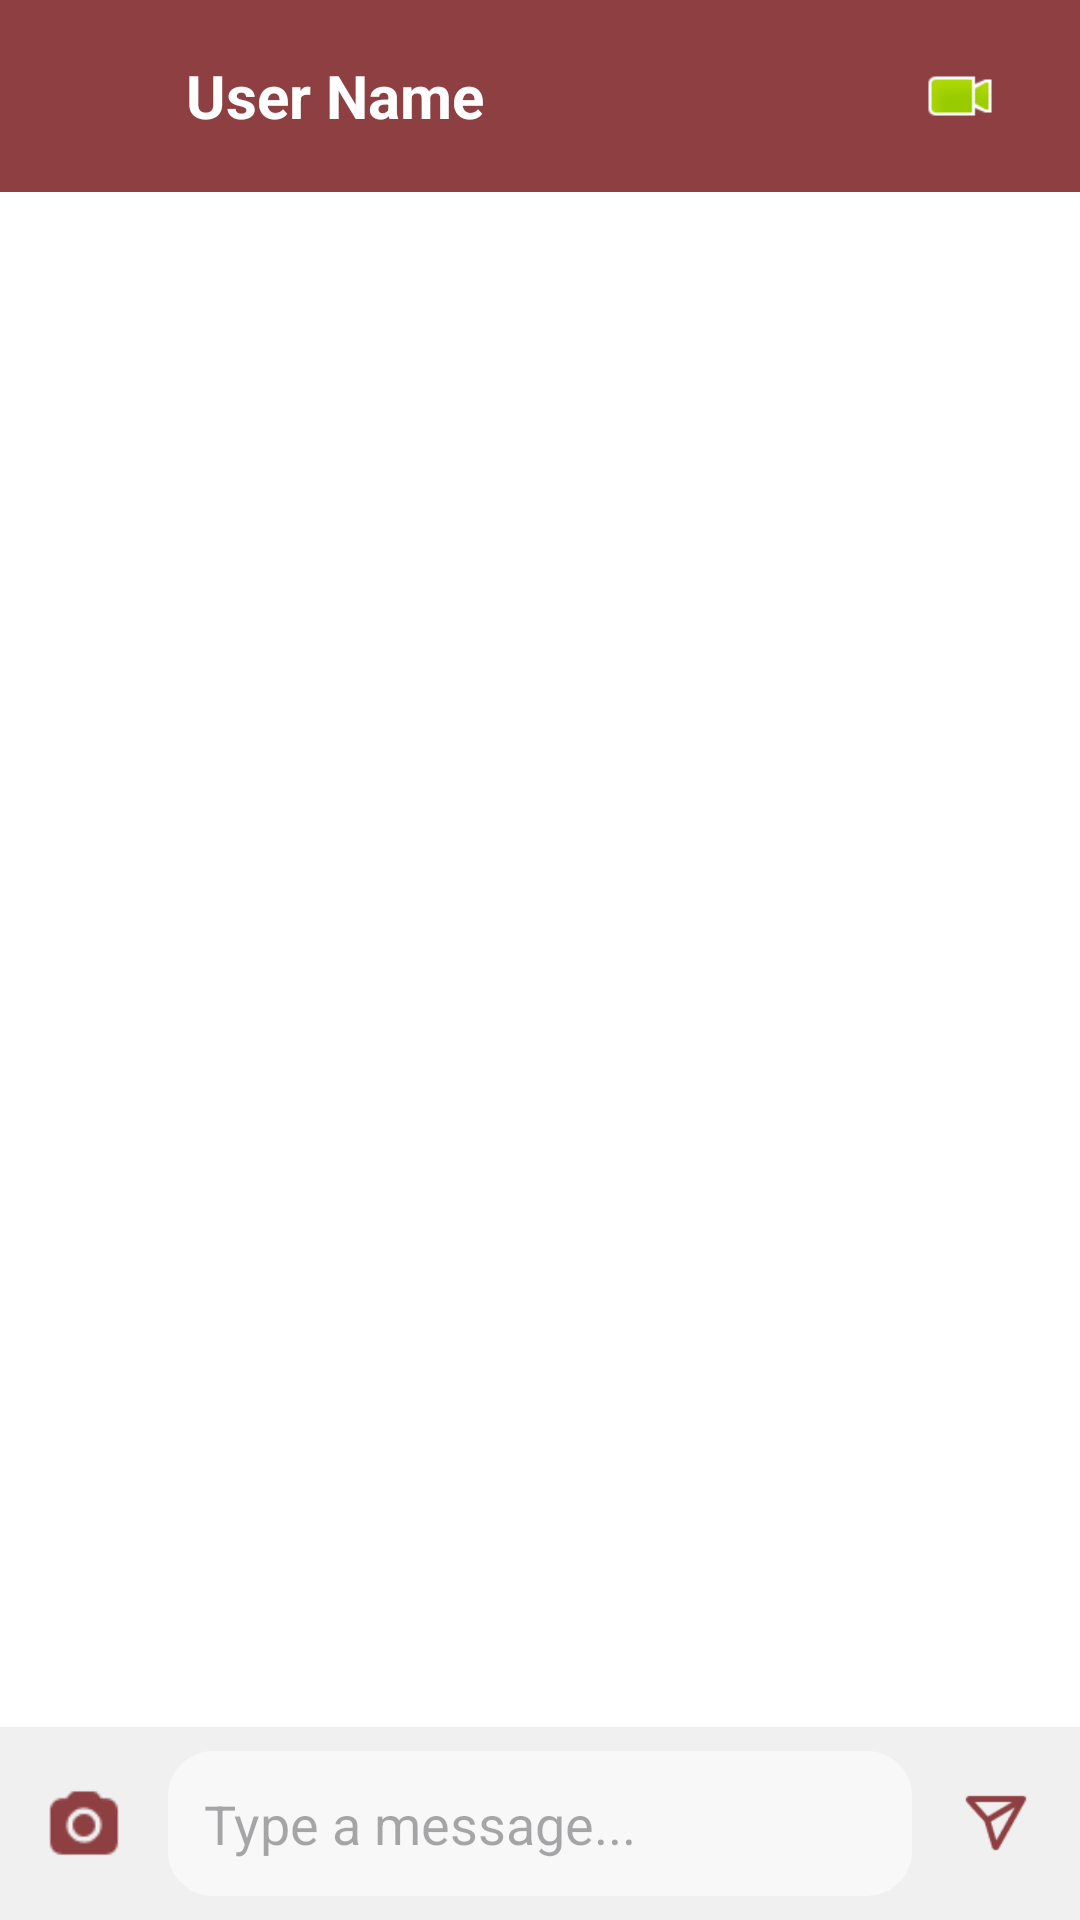

Icon bounding boxes for this 1080 × 1920 phone screenshot, format (x1, y1, x2, y2):
presence video online: (928, 76, 992, 116)
